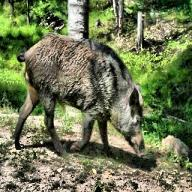boar: (13, 31, 152, 160)
